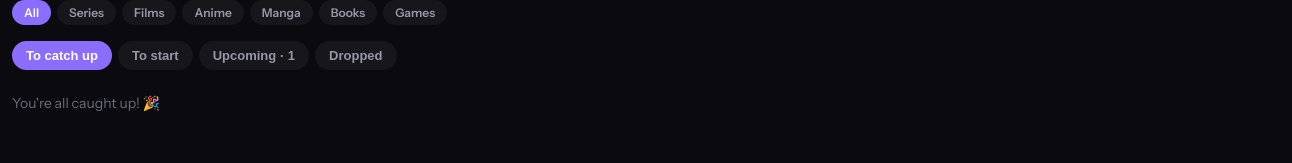
Test: CalendarView › shows a_voir livre with current year in À venir
This screenshot has width=1292, height=163.
Click the button "Upcoming · 1" at (254, 56), box [199, 41, 309, 70]
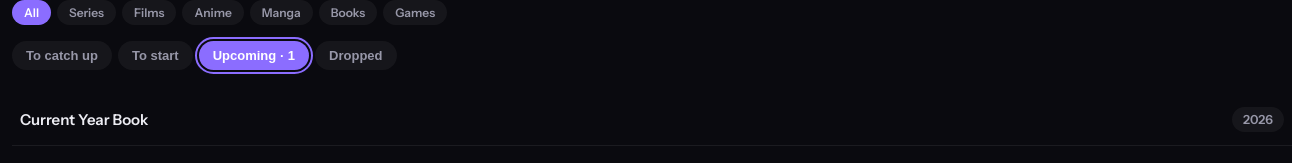
Result: the text "Current Year Book" is shown at [20, 110, 148, 129]
